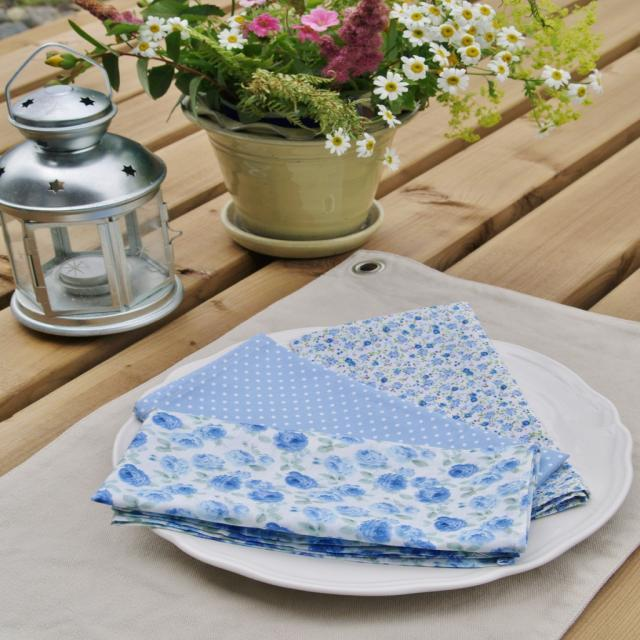ceramic plate: (112, 333, 633, 594)
